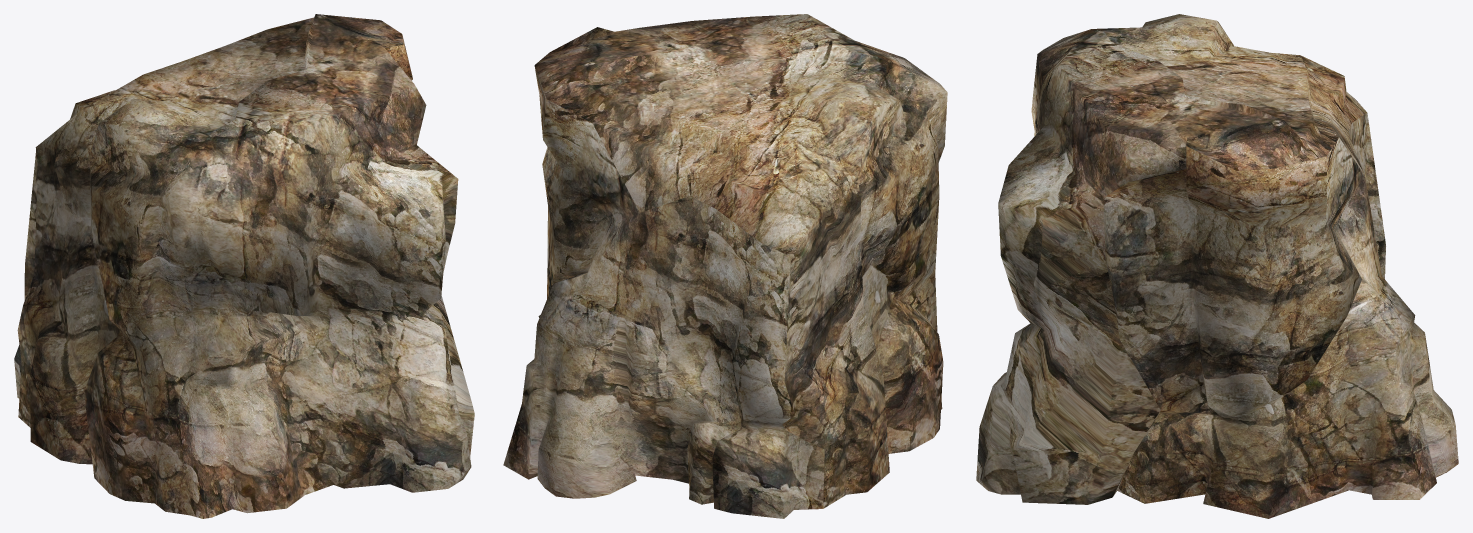
File: ex_DungeonSet_Rock_01D.fbx
3 renders of one model, left to right at view 1: azimuth 30°, elevation 25°; view 2: azimuth 150°, elevation 25°; view 3: azimuth 270°, elevation 25°, orthographic. The views are drawn at different scales.
Parts seen in each view (by area): view 1: ex_DungeonSet_Rock_01D; view 2: ex_DungeonSet_Rock_01D; view 3: ex_DungeonSet_Rock_01D.
Boxes of the visible parts, box(x1,y1,x2,y2) form: ex_DungeonSet_Rock_01D: box(14, 14, 474, 518); ex_DungeonSet_Rock_01D: box(503, 14, 947, 518); ex_DungeonSet_Rock_01D: box(976, 14, 1458, 518).
Bounding box in the file's own units: 397 × 397 × 467.
